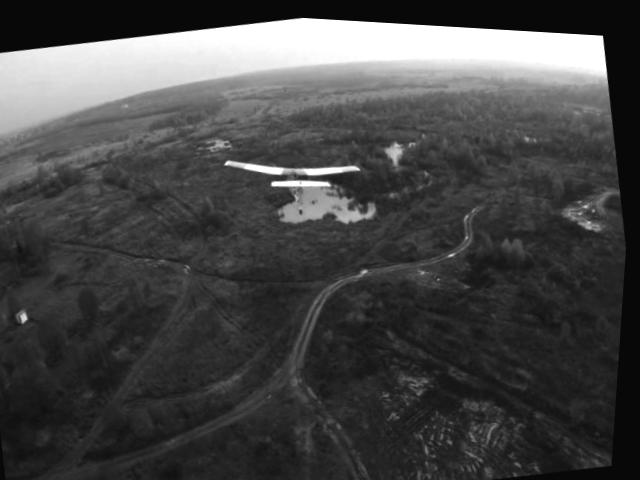hedef: (216, 127, 377, 219)
